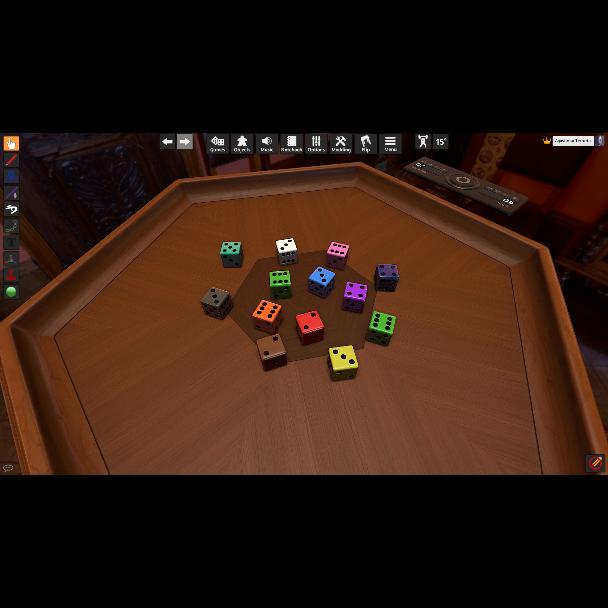d6: (200, 287, 232, 321), (328, 346, 358, 382), (256, 334, 286, 370), (252, 300, 282, 334), (366, 312, 394, 348), (295, 311, 323, 345), (307, 267, 333, 299), (342, 282, 366, 314), (374, 264, 398, 292), (326, 242, 348, 272), (269, 270, 291, 300), (221, 241, 244, 268), (274, 238, 296, 266)
